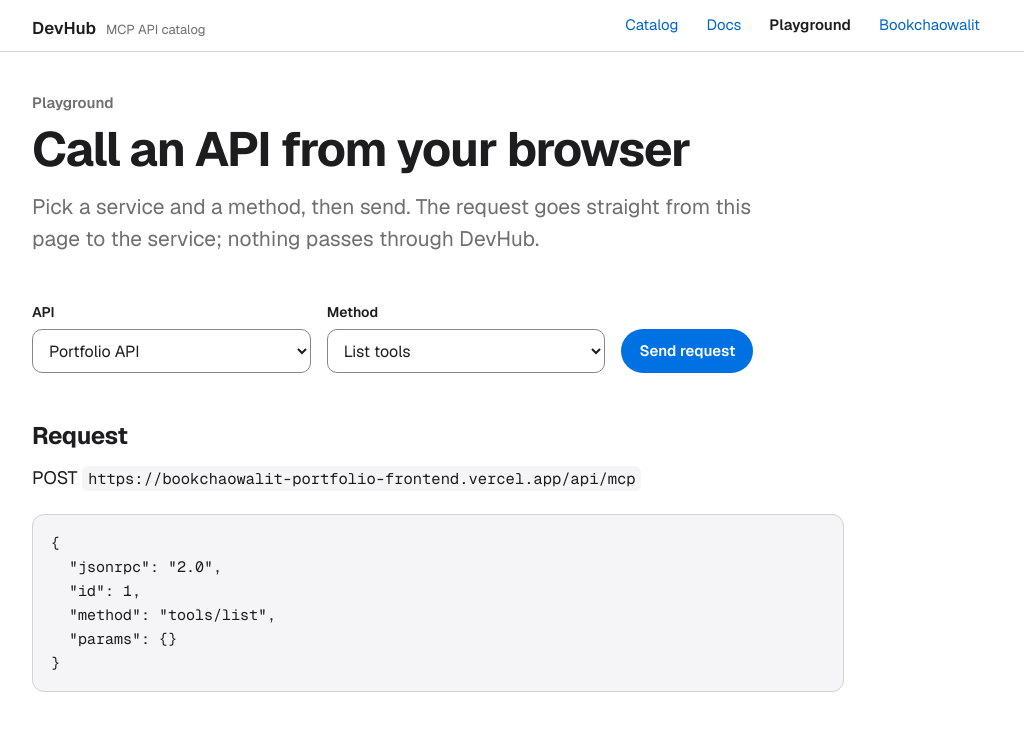
Test: playground › copies the response and says so
Submit the form, box [32, 302, 753, 373]
(page scrolled)
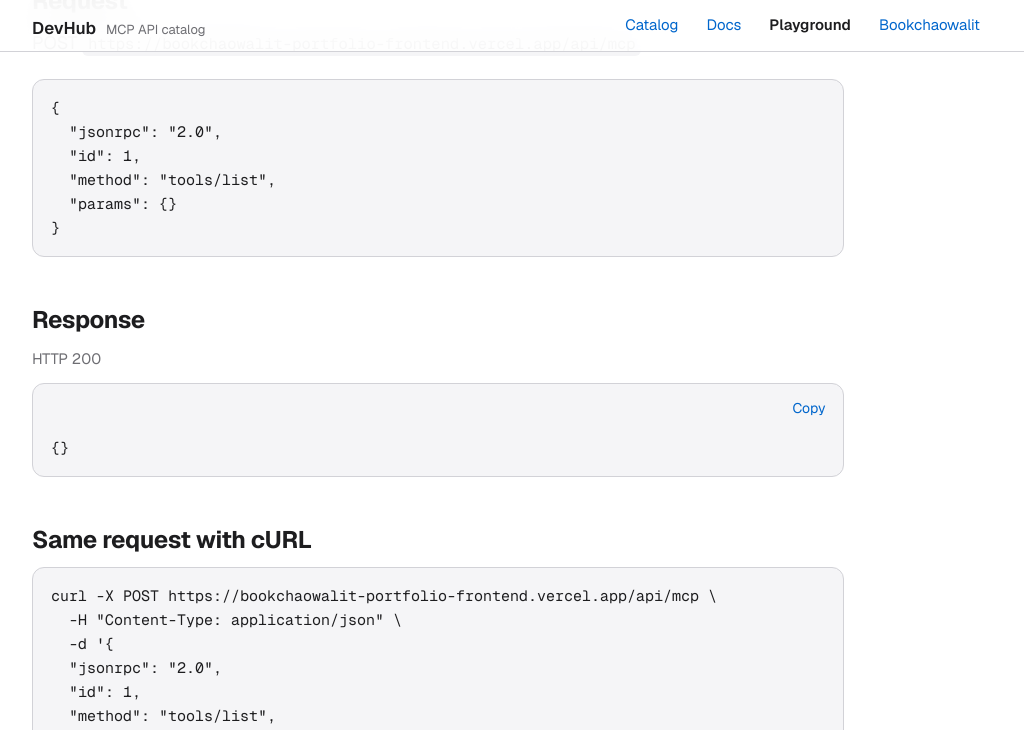
Click the button with class "rs-copy": x=809, y=409 [778, 387, 840, 431]
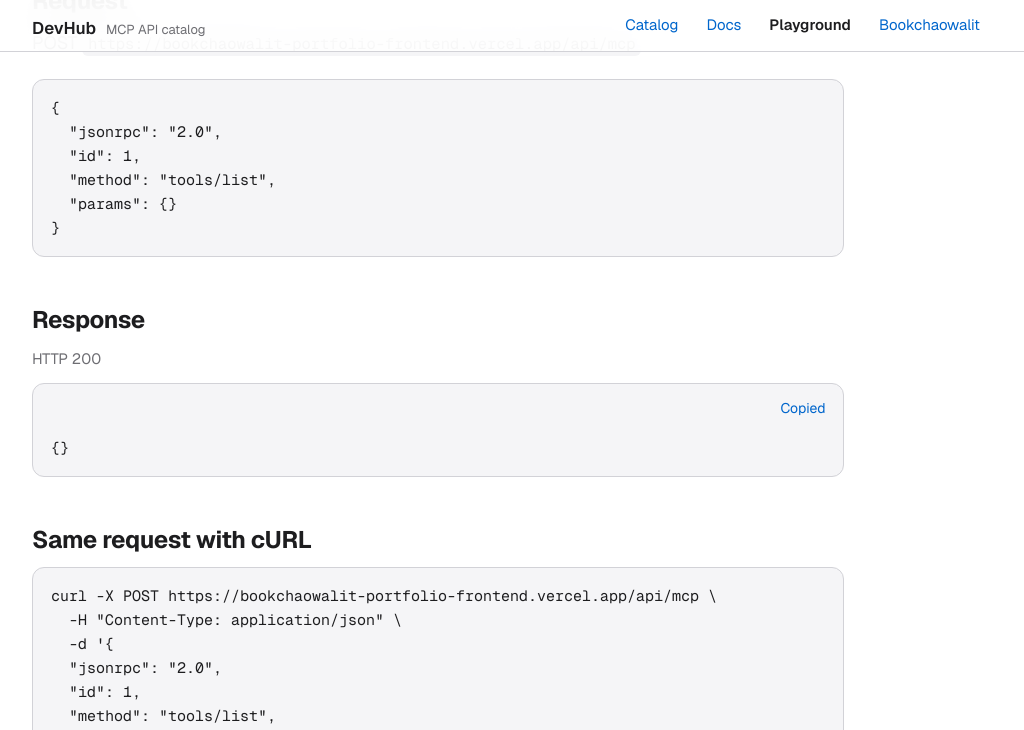
Expected: the button with class "rs-copy" reads "Copied", [766, 387, 840, 431]
